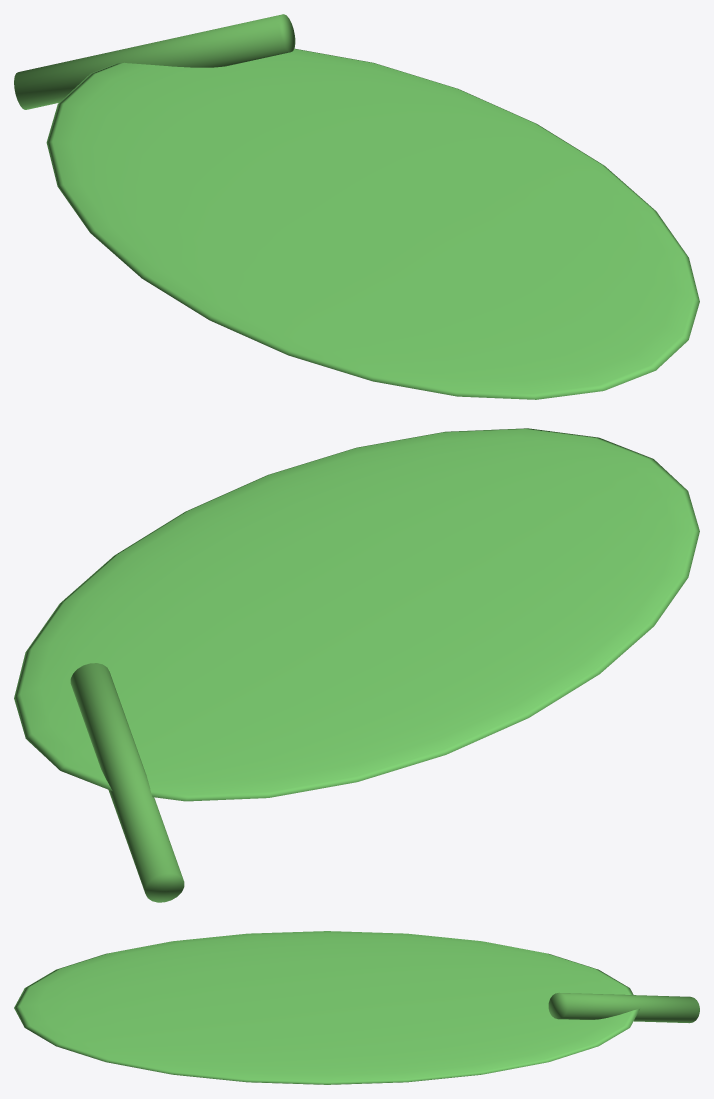
File: leaf.glb
3 renders of one model, top to bottom at view 1: azimuth 30°, elevation 25°; view 2: azimuth 150°, elevation 25°; view 3: azimuth 270°, elevation 25°, orthographic. The views are drawn at different scales.
Visible parts, largest first — view 1: blade, petiole; view 2: blade, petiole; view 3: blade, petiole.
Boxes of the visible parts, box(x1,y1,x2,y2) form: blade: box(46, 48, 699, 399); petiole: box(14, 14, 295, 109); blade: box(14, 428, 699, 801); petiole: box(70, 663, 184, 902); blade: box(14, 931, 639, 1084); petiole: box(548, 992, 699, 1023).
Size of the model in its own units: 1.1 by 0.2751 by 2.08.
